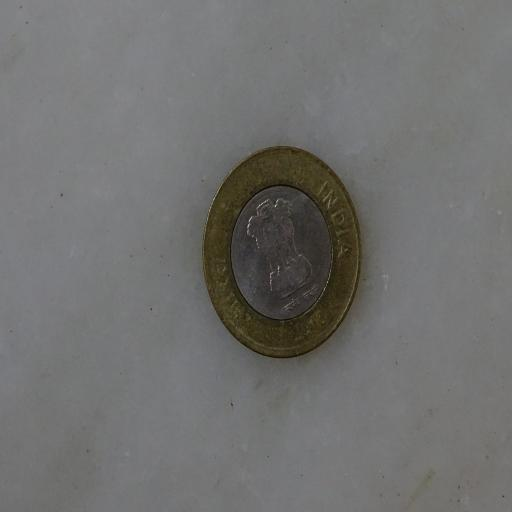rupee10: (194, 138, 366, 363)
